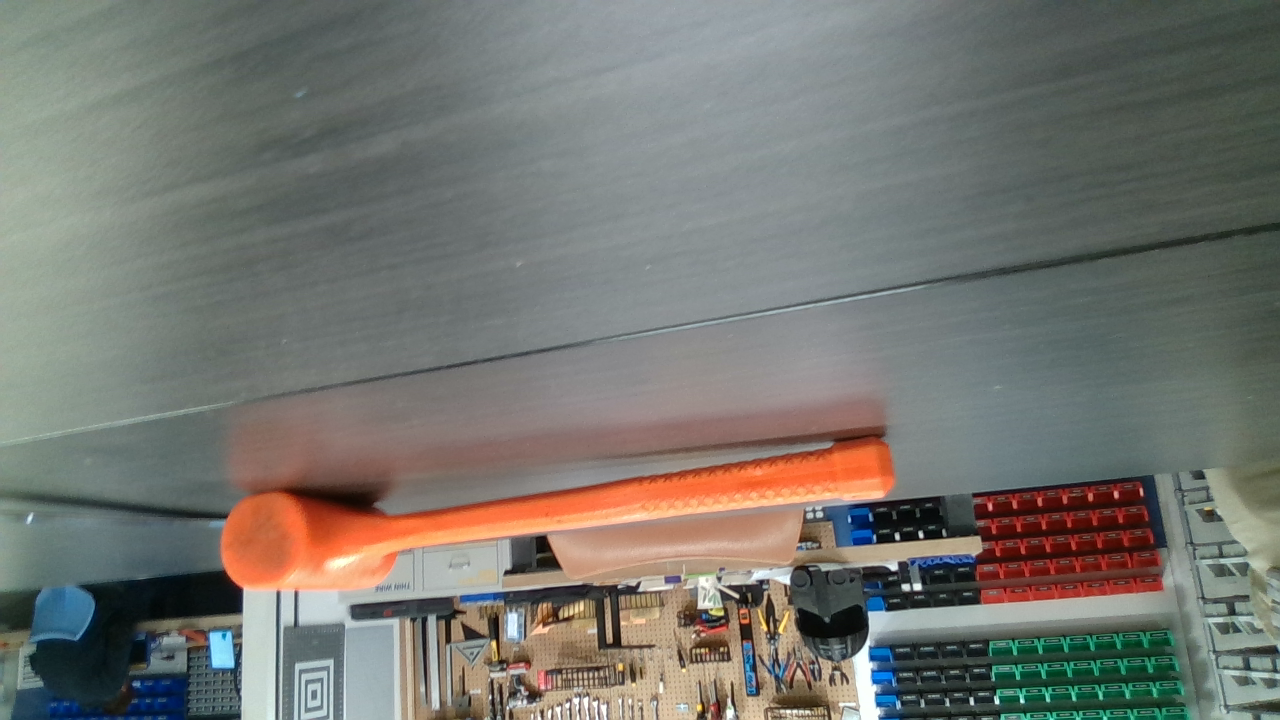Orange Hammer: (219, 431, 893, 589)
